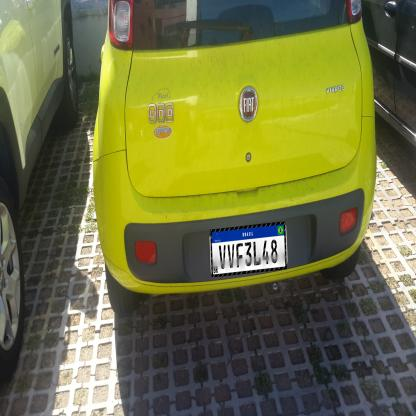PlacaM: (210, 222, 287, 277)
